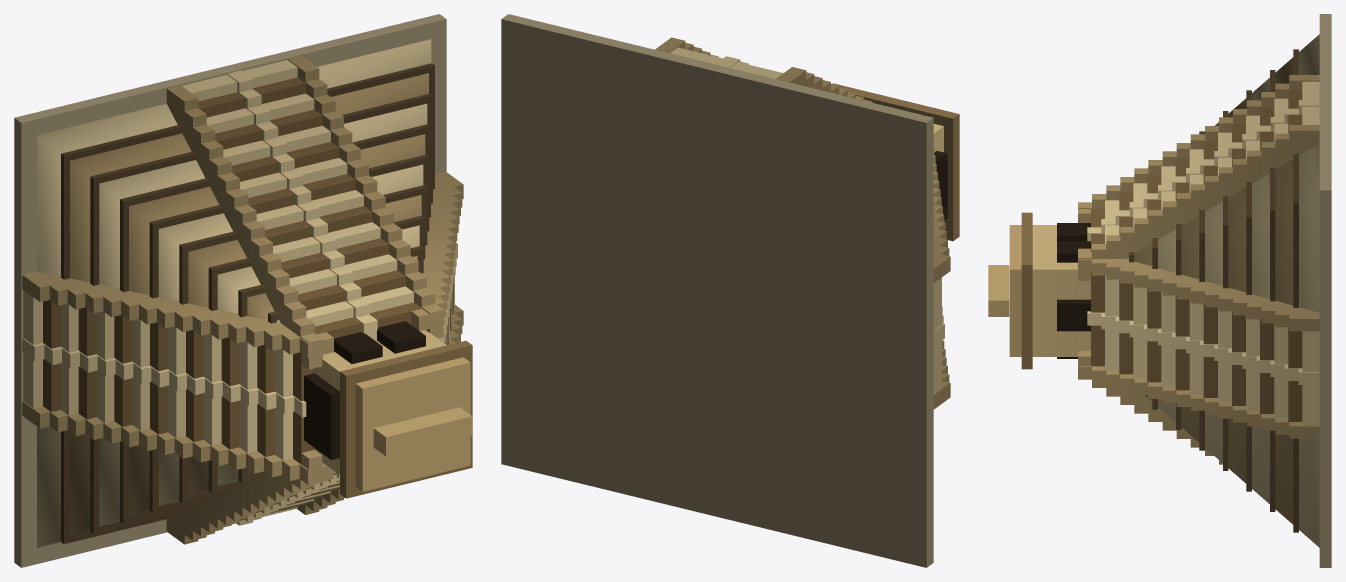
The model's file is chichen-itza.glb.
3 views of the same model, side by side, from view 1: azimuth 30°, elevation 25°; view 2: azimuth 150°, elevation 25°; view 3: azimuth 270°, elevation 25° (orthographic). The views are drawn at different scales.
Parts seen in each view (by area): view 1: part-stair, part-rail, part-stairShade, part-lime, part-seam, part-plaza, part-limeShade, part-comb, part-dark, part-templeShade, part-temple; view 2: part-plaza, part-rail, part-templeShade, part-stair, part-dark; view 3: part-rail, part-stair, part-lime, part-stairShade, part-limeShade, part-plaza, part-seam, part-temple, part-comb, part-dark, part-templeShade.
Part boxes in pixels (x1,y1,x2,y2): part-stair: (22,60,457,525); part-rail: (22,55,463,544); part-stairShade: (43,77,453,520); part-lime: (37,39,431,547); part-seam: (61,63,434,543); part-plaza: (14,14,446,567); part-limeShade: (70,73,428,536); part-comb: (355,357,472,491); part-dark: (304,321,425,459); part-templeShade: (340,340,472,498); part-temple: (314,330,446,474); part-plaza: (501,14,933,567); part-rail: (655,37,950,409); part-templeShade: (832,83,959,241); part-stair: (670,47,944,393); part-dark: (934,151,947,219); part-rail: (1078,75,1319,472); part-stair: (1087,81,1319,425); part-lime: (1126,34,1319,547); part-stairShade: (1091,90,1302,421); part-limeShade: (1134,57,1293,524); part-plaza: (1319,14,1331,567); part-seam: (1129,49,1298,532); part-temple: (1032,225,1090,356); part-comb: (988,225,1021,356); part-dark: (1057,223,1090,358); part-templeShade: (1021,212,1032,369).
Bounding box in the file's own units: 1.38 × 1.38 × 1.14.
